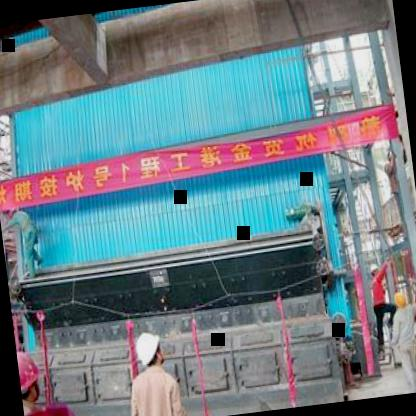helmet: (15, 341, 45, 409), (134, 328, 164, 371), (388, 286, 408, 313), (368, 258, 384, 280)
